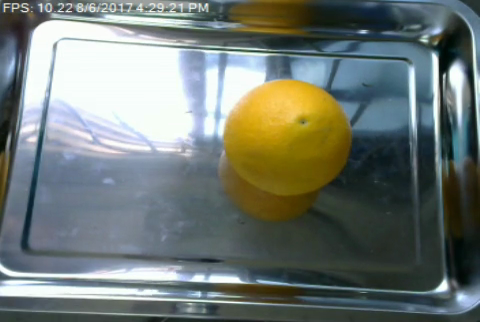Orange: (223, 78, 353, 196)
